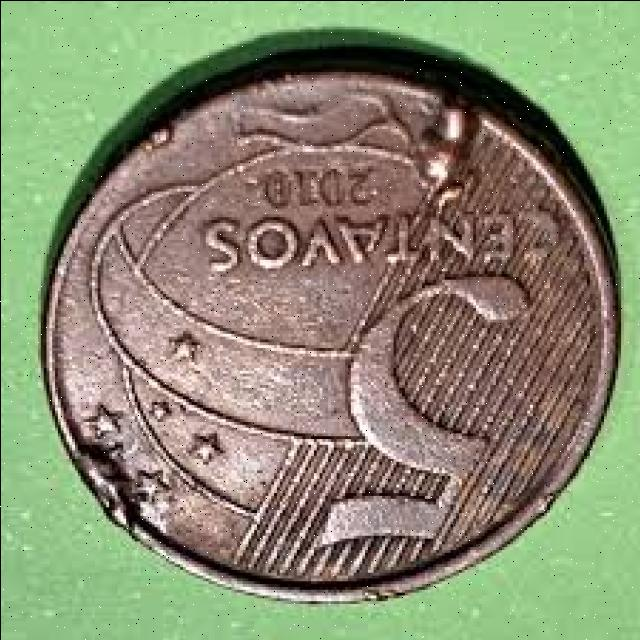5 cent: (39, 49, 617, 602)
